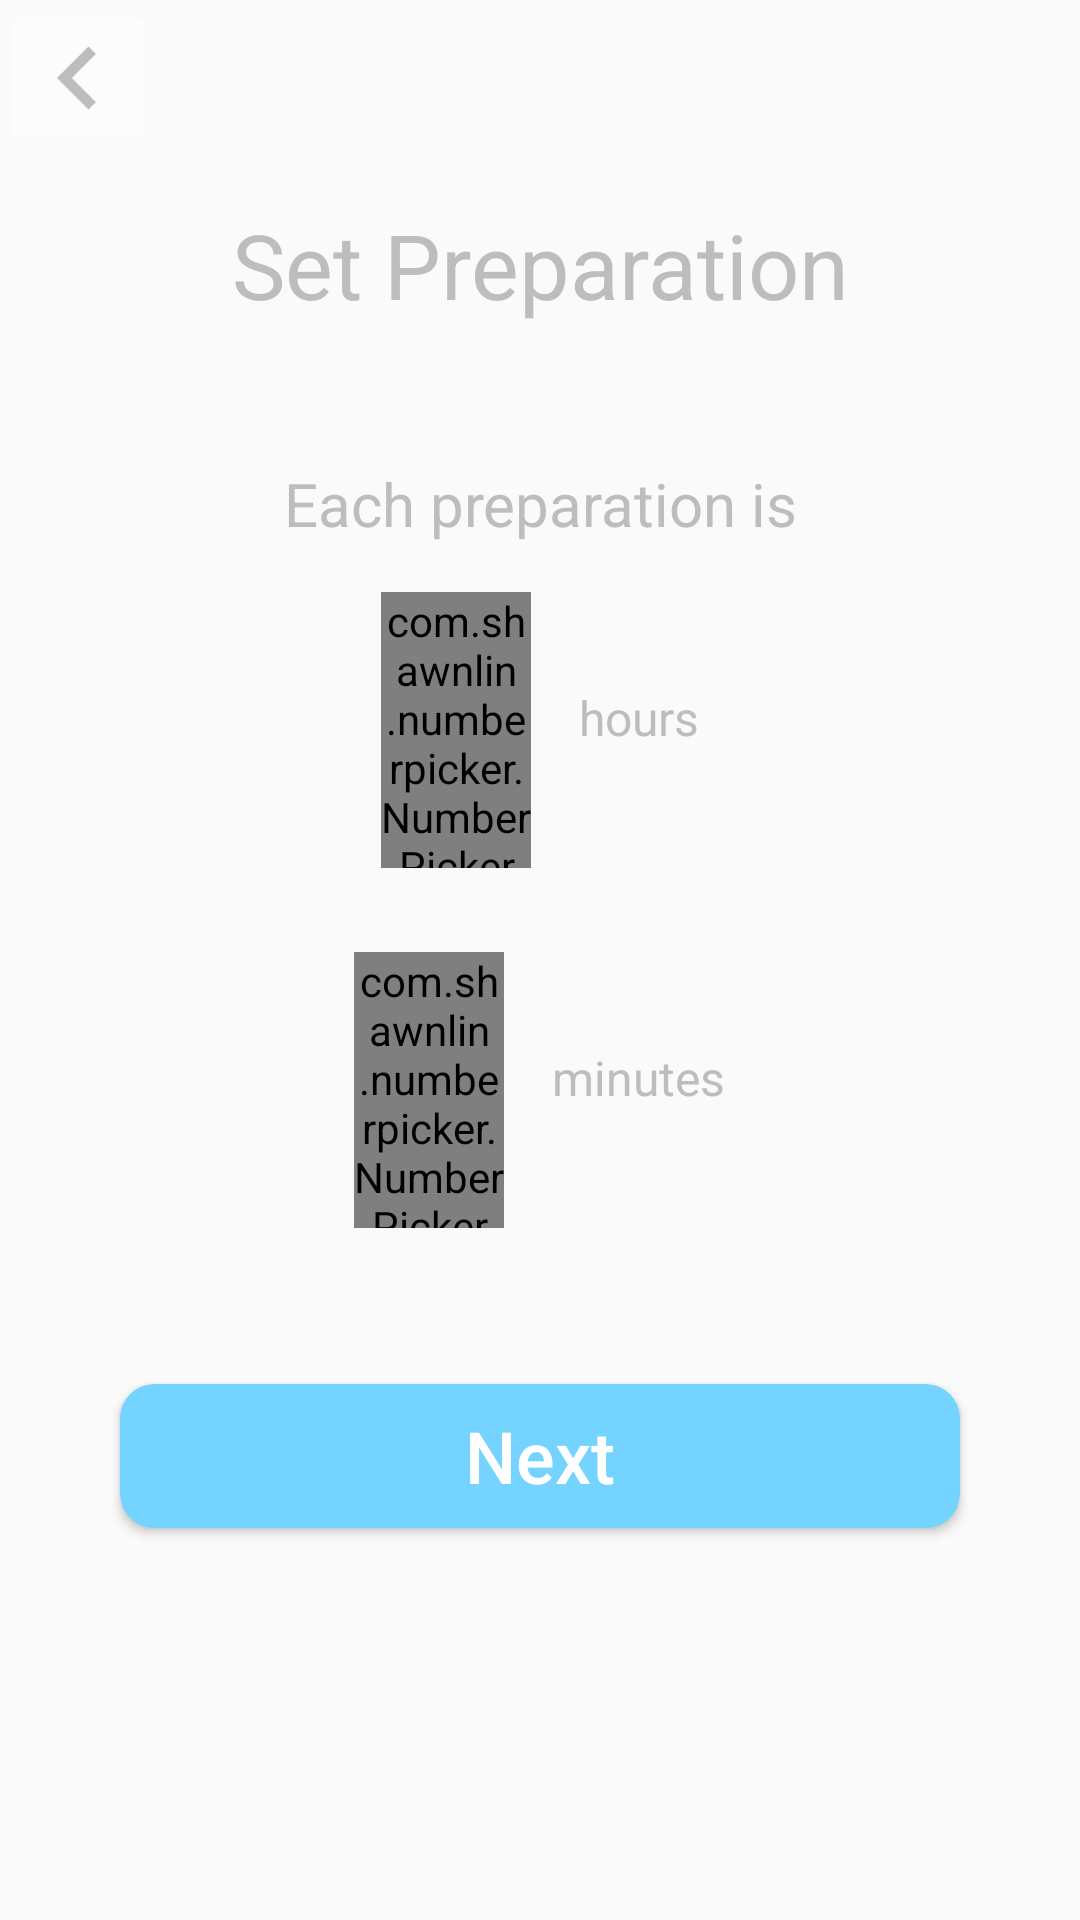

Icons on this 1080*1920 Android screen, each with its box as {"x1": x1, "y1": y1, "x2": x2, "y2": y2}:
back: {"x1": 57, "y1": 47, "x2": 96, "y2": 109}
